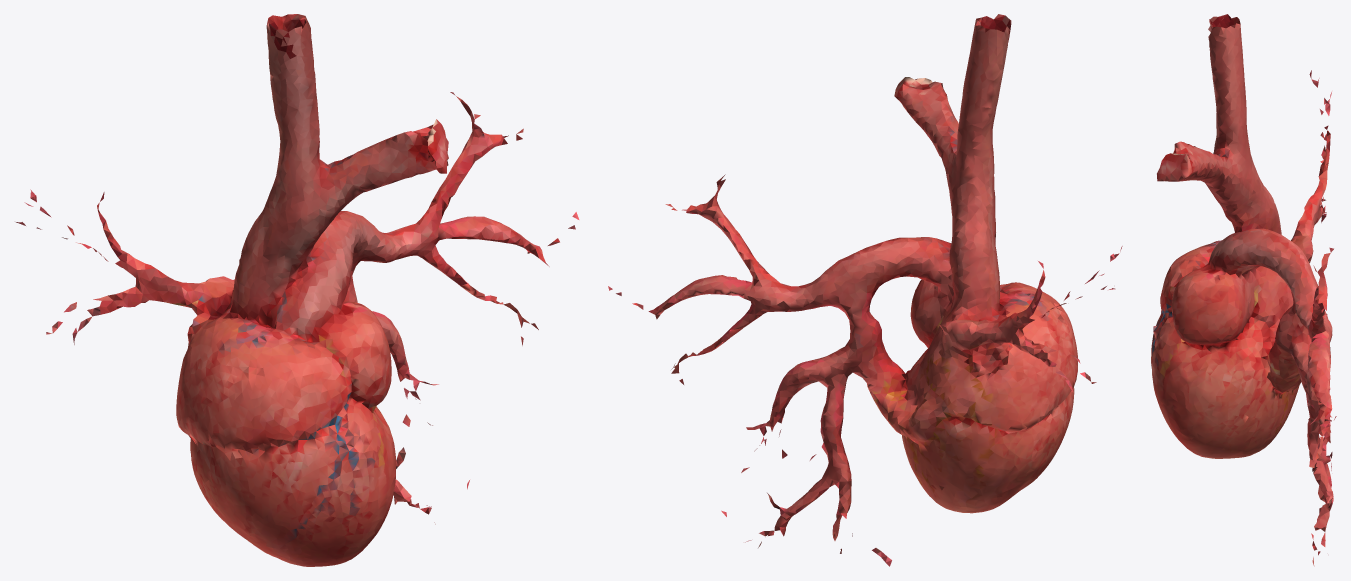
File: heart3afa.glb
The picture shows the model from 3 angles, left to right: view 1: azimuth 30°, elevation 25°; view 2: azimuth 150°, elevation 25°; view 3: azimuth 270°, elevation 25°; orthographic projection. The views are drawn at different scales.
Parts seen in each view (by area): view 1: arterias_coronarias_s_0328191237_texture; view 2: arterias_coronarias_s_0328191237_texture; view 3: arterias_coronarias_s_0328191237_texture.
Part boxes in pixels (box(x1,y1,x2,y2)): arterias_coronarias_s_0328191237_texture: box(16, 14, 579, 566); arterias_coronarias_s_0328191237_texture: box(608, 14, 1122, 566); arterias_coronarias_s_0328191237_texture: box(1151, 14, 1336, 566).
Bounding box in the file's own units: 1.94 × 1.97 × 0.7099.
Materials: 1 (1 with a texture image).
